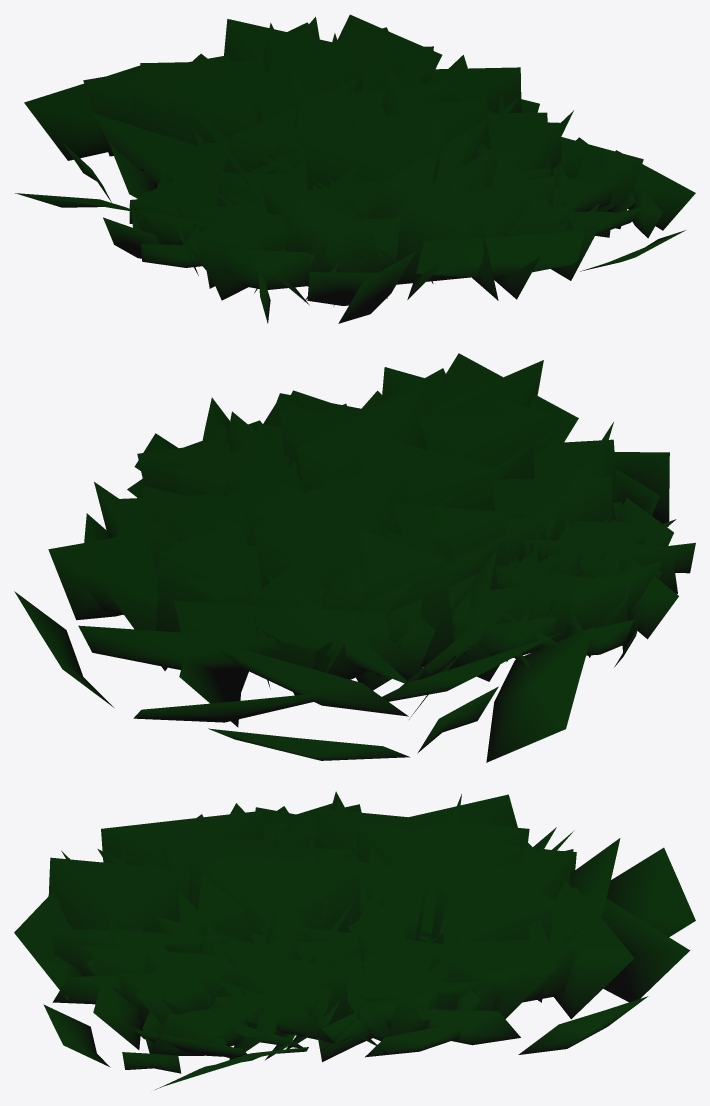
The model's file is GrassSimpleClumpCATAM_B.fbx.
The picture shows the model from 3 angles, top to bottom: view 1: azimuth 30°, elevation 25°; view 2: azimuth 150°, elevation 25°; view 3: azimuth 270°, elevation 25°; orthographic projection. The views are drawn at different scales.
Parts seen in each view (by area): view 1: LeavesClump_B_LOD0; view 2: LeavesClump_B_LOD0; view 3: LeavesClump_B_LOD0.
Part boxes in pixels (bbox=[...]): LeavesClump_B_LOD0: bbox=[15, 14, 695, 323]; LeavesClump_B_LOD0: bbox=[14, 353, 695, 762]; LeavesClump_B_LOD0: bbox=[14, 791, 695, 1089].
Size of what is drawn, in the model's own units: 4.19 by 1.12 by 4.64.
